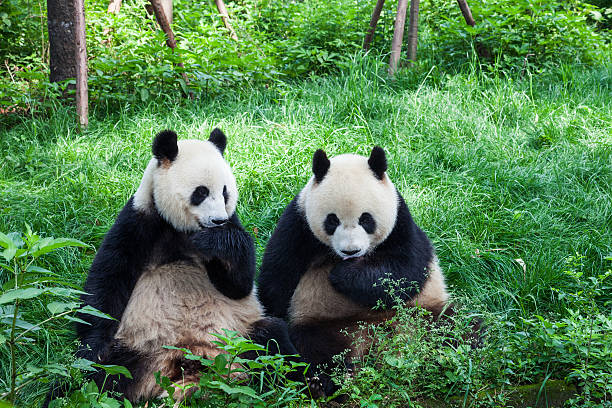panda: (296, 139, 412, 261), (139, 123, 249, 239)
